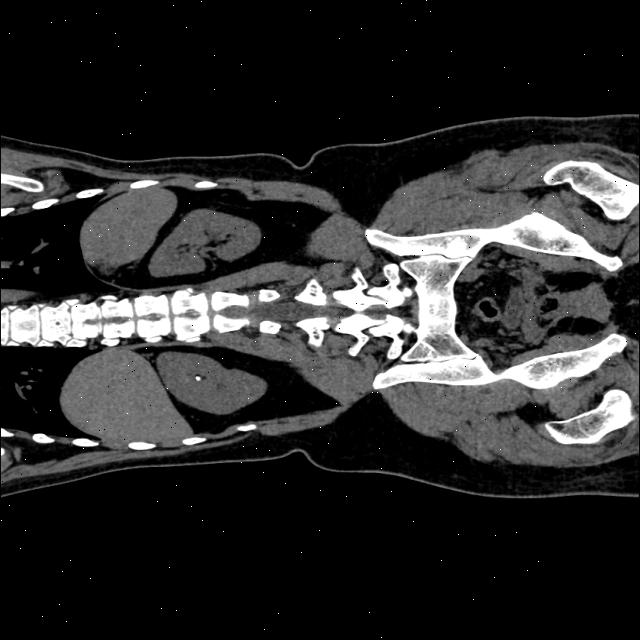kidneystone: (194, 374, 203, 380)
